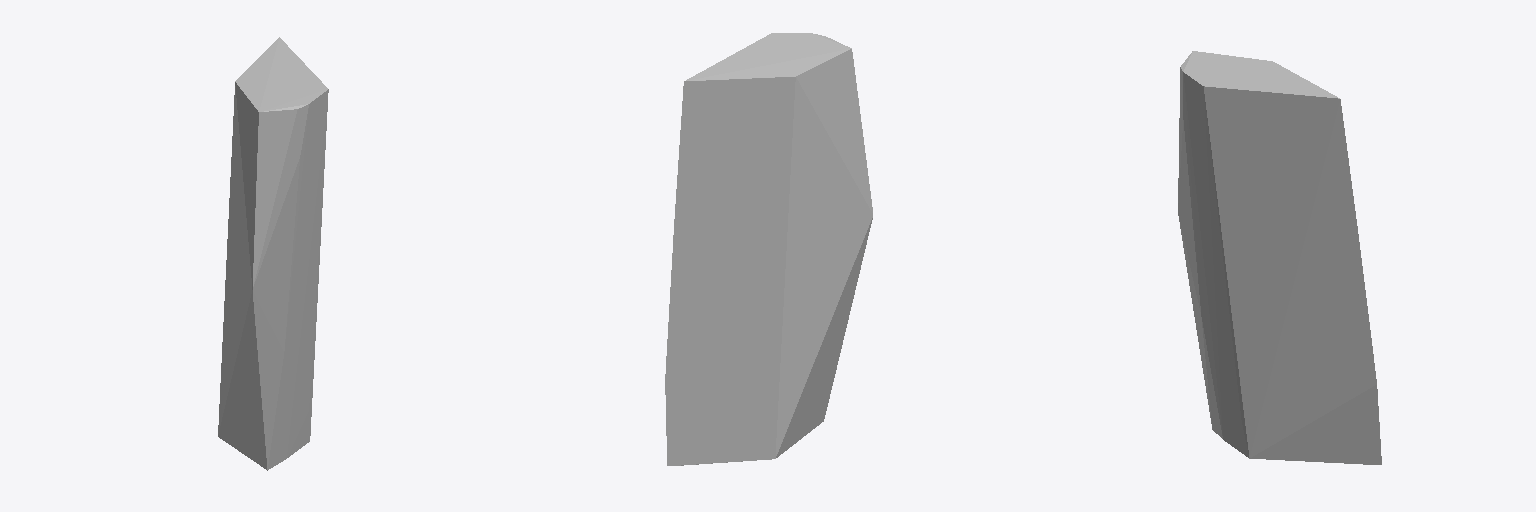
File: trash_bin_collision_52.obj
3 views of the same model, side by side, from view 1: azimuth 30°, elevation 25°; view 2: azimuth 150°, elevation 25°; view 3: azimuth 270°, elevation 25° (orthographic).
Bounding box in the file's own units: 0.0241 × 0.0786 × 0.039.